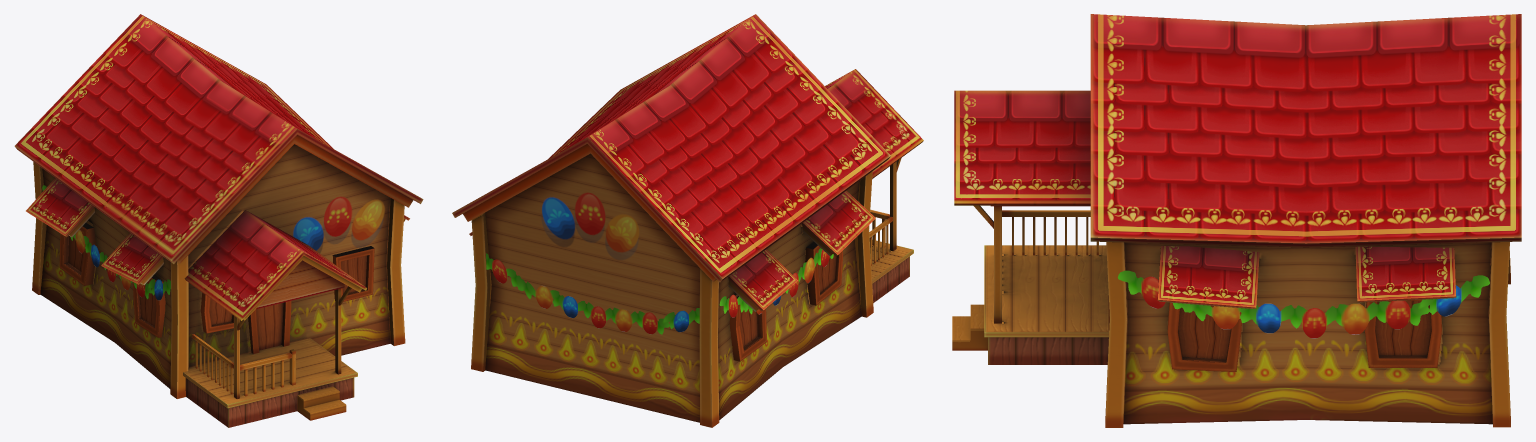
Rendered from House_08_F.FBX.
3 renders of one model, left to right at view 1: azimuth 30°, elevation 25°; view 2: azimuth 150°, elevation 25°; view 3: azimuth 270°, elevation 25°, orthographic. The views are drawn at different scales.
Visible parts, largest first — view 1: House_08, Egg_Rope_House_08; view 2: House_08, Egg_Rope_House_08; view 3: House_08, Egg_Rope_House_08.
Part boxes in pixels (x1,y1,x2,y2): House_08: (14, 14, 423, 427); Egg_Rope_House_08: (42, 185, 170, 300); House_08: (452, 14, 923, 427); Egg_Rope_House_08: (486, 248, 833, 334); House_08: (952, 14, 1521, 427); Egg_Rope_House_08: (1118, 270, 1489, 338).
Size of the model in its own units: 176 by 149 by 228.
